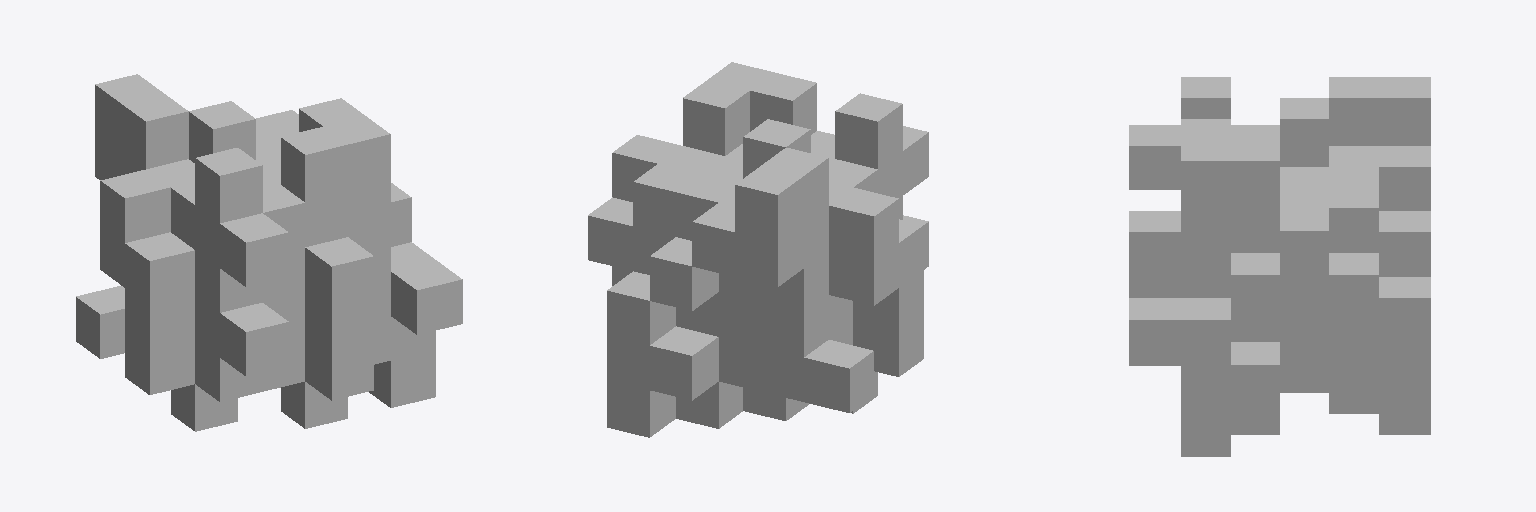
Rendered from EnemyBullet.obj.
3 renders of one model, left to right at view 1: azimuth 30°, elevation 25°; view 2: azimuth 150°, elevation 25°; view 3: azimuth 270°, elevation 25°, orthographic.
Parts seen in each view (by area): view 1: Cube; view 2: Cube; view 3: Cube.
Boxes of the visible parts, x1=… form: Cube: x1=76, y1=74, x2=462, y2=431; Cube: x1=588, y1=62, x2=928, y2=437; Cube: x1=1129, y1=77, x2=1430, y2=456.
Bounding box in the file's own units: 0.46 × 0.46 × 0.46.